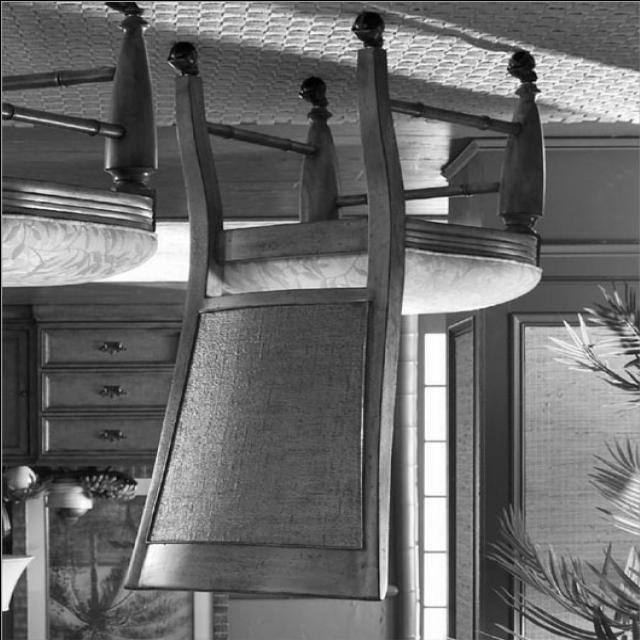chair: (121, 15, 542, 600)
